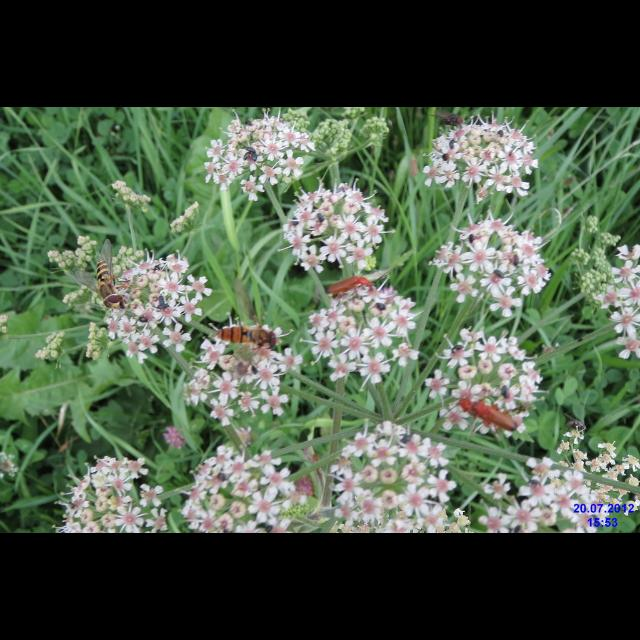Flower: (476, 425, 640, 533), (325, 421, 475, 533), (176, 428, 310, 534), (180, 314, 302, 428), (35, 232, 141, 360), (99, 247, 213, 365), (417, 110, 541, 208), (277, 179, 398, 277), (436, 208, 552, 308), (203, 107, 314, 201), (50, 456, 166, 534), (280, 108, 388, 162), (568, 214, 624, 312), (594, 245, 640, 363), (110, 179, 150, 211), (168, 200, 200, 233), (1, 454, 22, 482), (164, 426, 186, 448), (0, 312, 10, 338)
